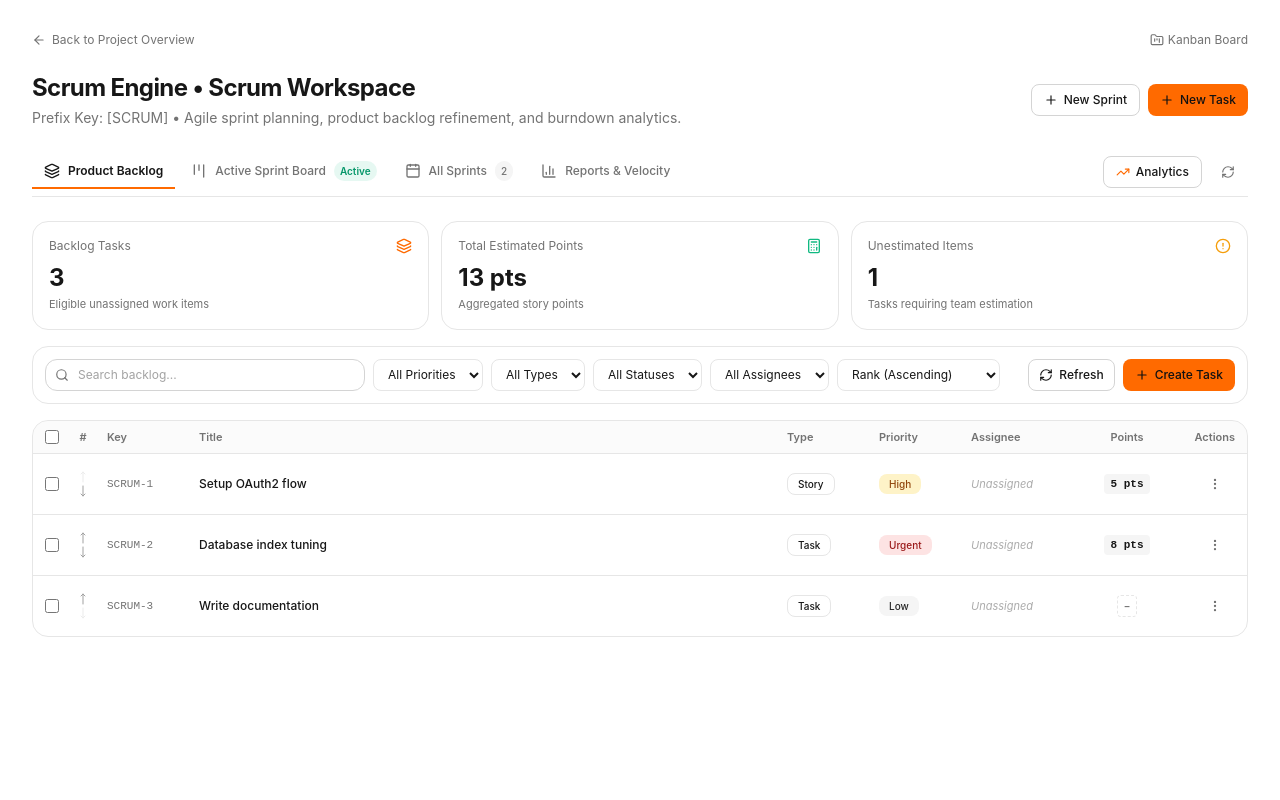
it: ProjectScrumPage › allows switching to All Sprints tab
Check: the heading "Scrum Engine • Scrum Workspace" is shown, box 32,73 -> 415,102
Click the button "All Sprints 2".
click(459, 172)  # box 393,153 -> 525,191
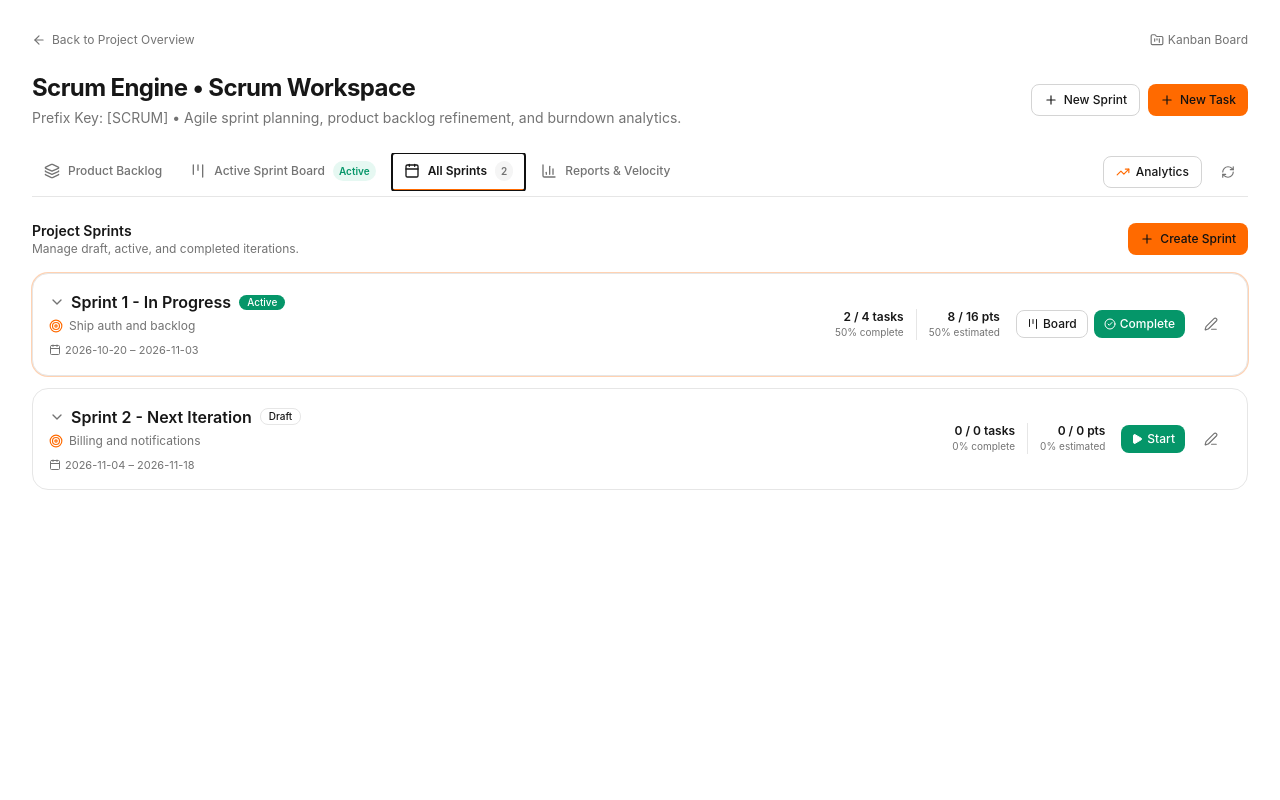
Check: the text "Sprint 1 - In Progress" is shown, box 71,290 -> 231,314
Check: the text "Sprint 2 - Next Iteration" is shown, box 71,404 -> 252,428
